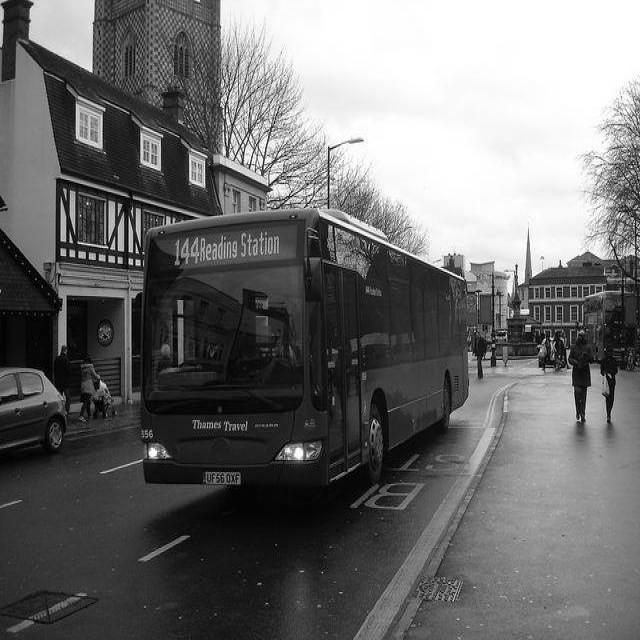vehicle: (147, 208, 471, 487), (1, 367, 71, 455)
